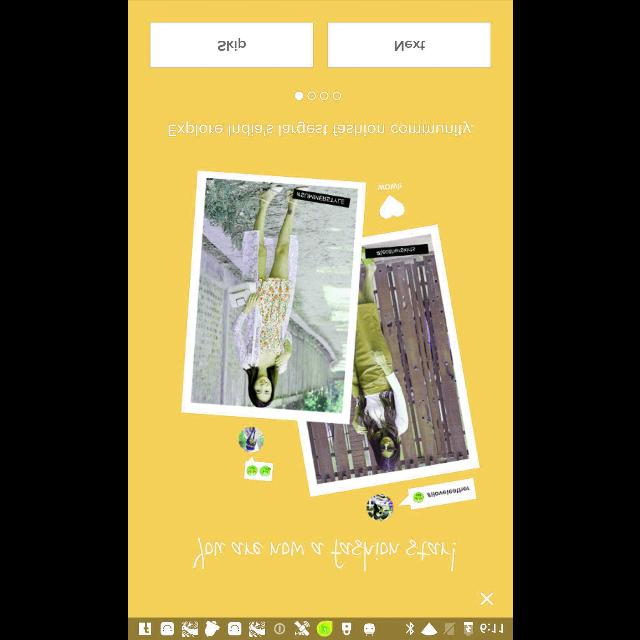icon: (480, 592, 492, 604)
image: (180, 170, 478, 522)
pageindicator: (294, 92, 340, 100)
text: (192, 537, 456, 571), (168, 122, 472, 136)
textbutton: (150, 22, 312, 68), (327, 23, 489, 67)
uppertaskbar: (128, 617, 512, 639)
